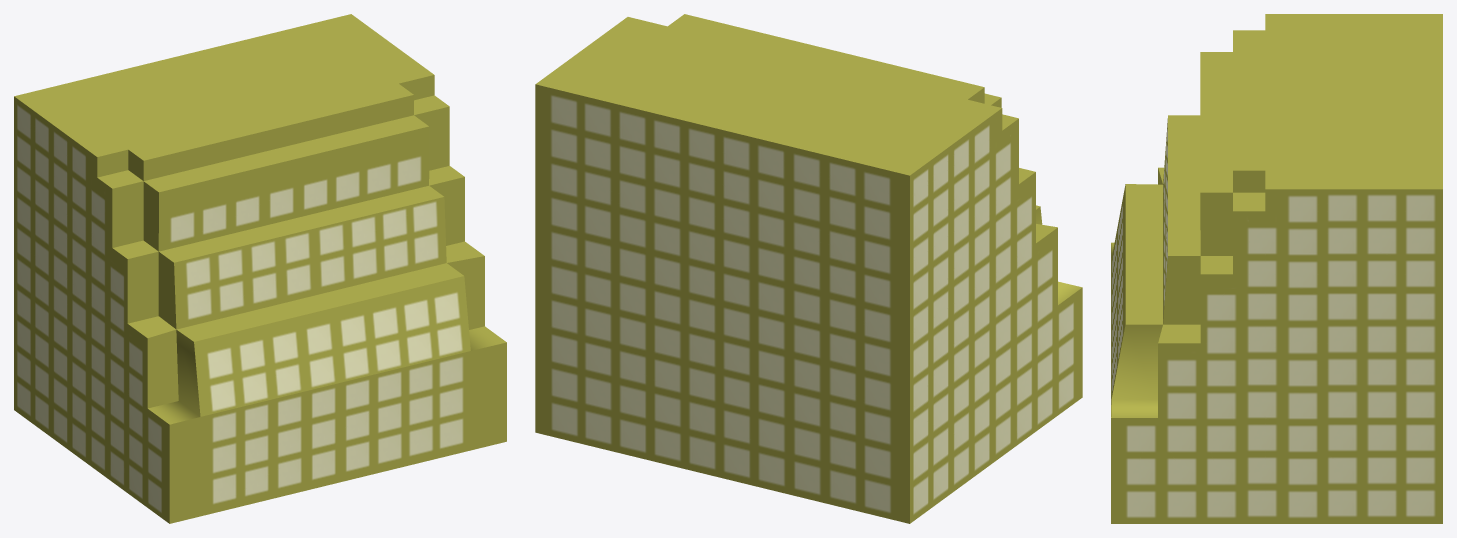
The model's file is r2Whole.fbx.
3 views of the same model, side by side, from view 1: azimuth 30°, elevation 25°; view 2: azimuth 150°, elevation 25°; view 3: azimuth 270°, elevation 25° (orthographic). The views are drawn at different scales.
Parts seen in each view (by area): view 1: Rockefeller2; view 2: Rockefeller2; view 3: Rockefeller2.
Boxes of the visible parts, x1=… form: Rockefeller2: x1=14, y1=14, x2=506, y2=523; Rockefeller2: x1=535, y1=14, x2=1082, y2=523; Rockefeller2: x1=1111, y1=14, x2=1442, y2=523.
Size of the model in its own units: 0.1923 by 0.1709 by 0.1536.
1 material, 1 textured.
